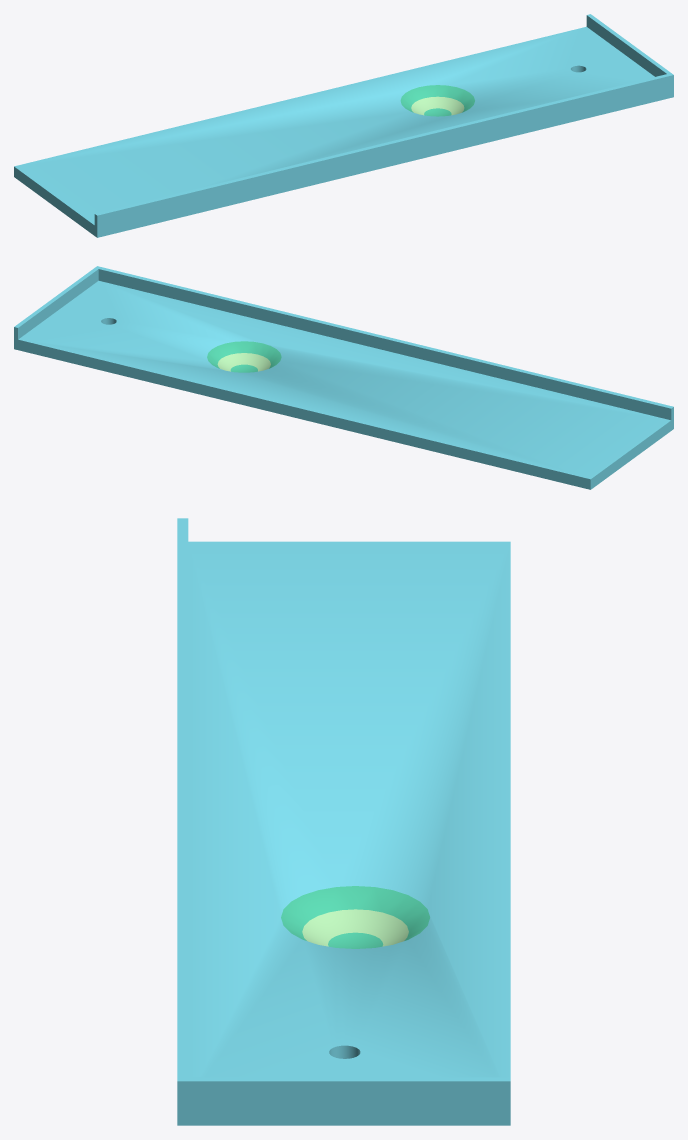
File: Ground_05.fbx
3 views of the same model, one above another, from view 1: azimuth 30°, elevation 25°; view 2: azimuth 150°, elevation 25°; view 3: azimuth 270°, elevation 25° (orthographic). The views are drawn at different scales.
Visible parts, largest first — view 1: Ground_05; view 2: Ground_05; view 3: Ground_05.
Boxes of the visible parts, x1=… form: Ground_05: x1=14, y1=14, x2=673, y2=237; Ground_05: x1=14, y1=266, x2=673, y2=489; Ground_05: x1=177, y1=518, x2=510, y2=1125.
Bounding box in the file's own units: 1076 × 45.99 × 269.
